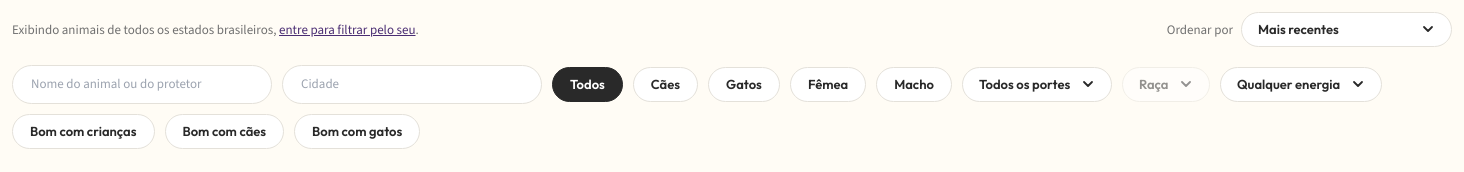
Test case: busca na API › a primeira opção de cada lista é o todos, já marcado
The width and height of the screenshot is (1464, 172).
Expected: the dropdown named "Porte" shows "Todos os portes", [962, 67, 1112, 102]
Expected: the dropdown named "Energia" shows "Qualquer energia", [1220, 67, 1382, 102]
Click the button "Gatos". click: coordinates (744, 84)
box: [708, 67, 780, 102]
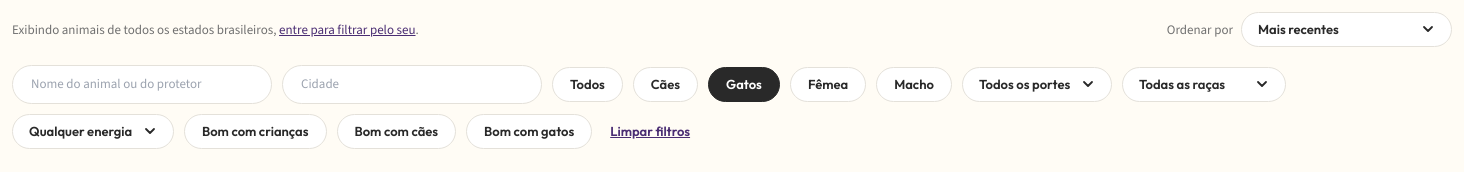
Expected: the dropdown named "Raça" shows "Todas as raças", [1122, 67, 1286, 102]
